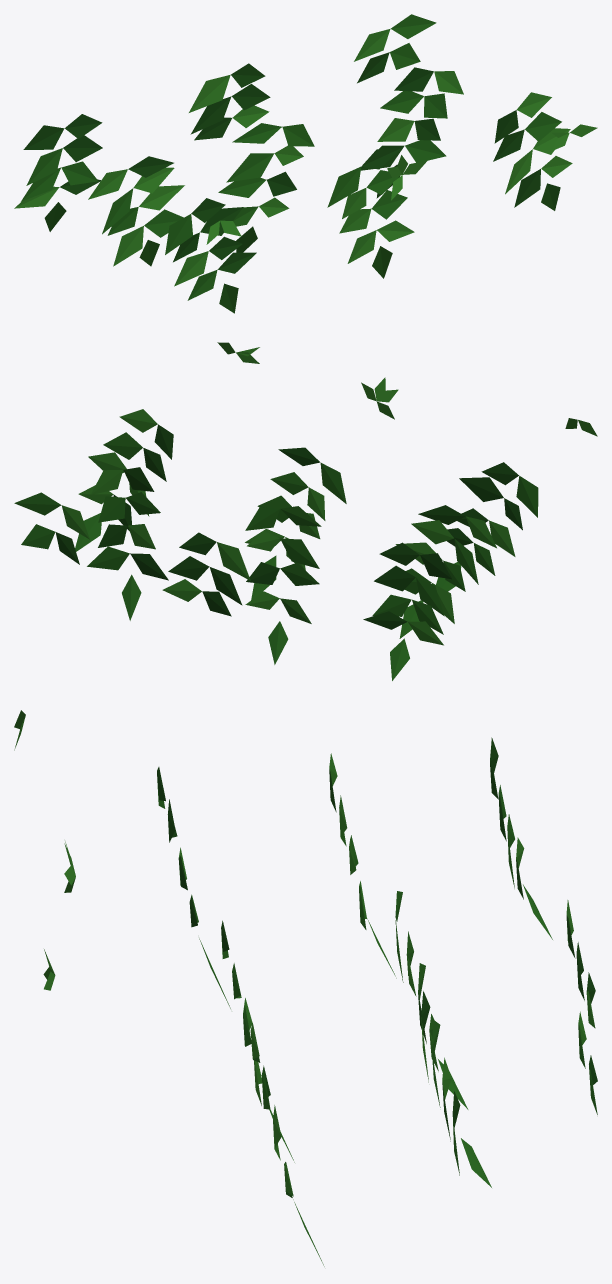
3 views of the same model, one above another, from view 1: azimuth 30°, elevation 25°; view 2: azimuth 150°, elevation 25°; view 3: azimuth 270°, elevation 25° (orthographic). The views are drawn at different scales.
Parts seen in each view (by area): view 1: r14c5_l11; view 2: r14c5_l11; view 3: r14c5_l11.
Boxes of the visible parts, <box> form: r14c5_l11: <box>14,14,597,313</box>; r14c5_l11: <box>14,342,597,680</box>; r14c5_l11: <box>14,710,597,1266</box>.
Size of the model in its own units: 1.51 by 0.6138 by 1.13.
